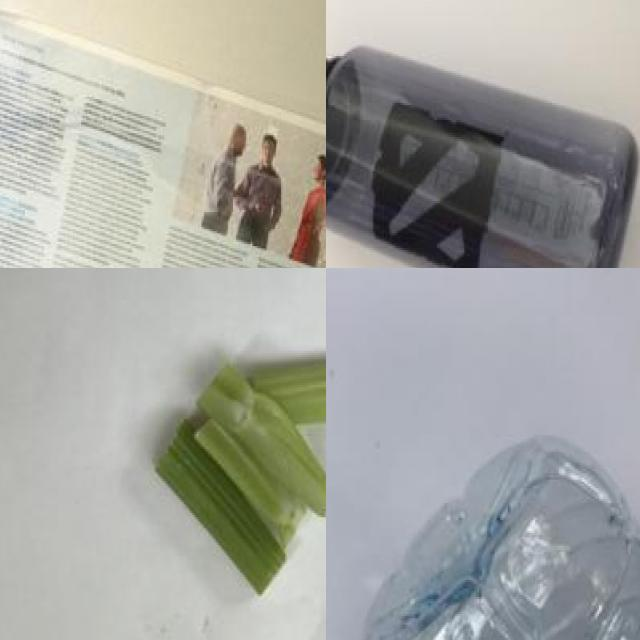compost: (156, 335, 326, 604)
paper: (0, 24, 326, 268)
plastic: (326, 20, 640, 268), (357, 417, 640, 640)
